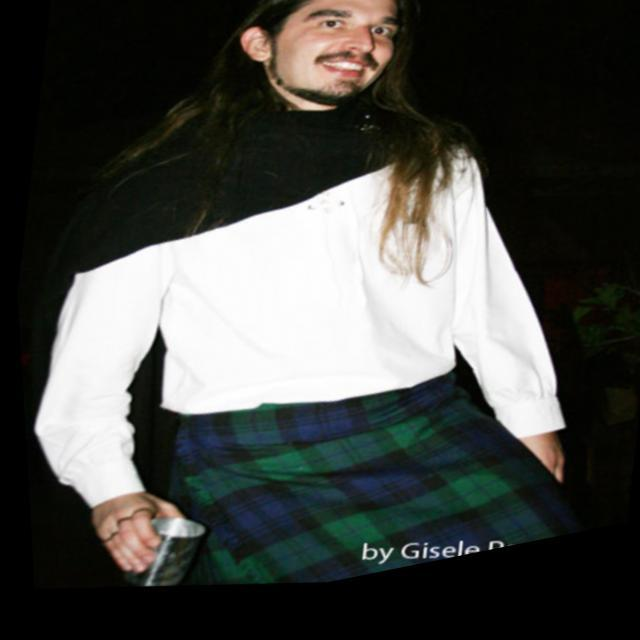Nonhelmet: (230, 0, 414, 106)
